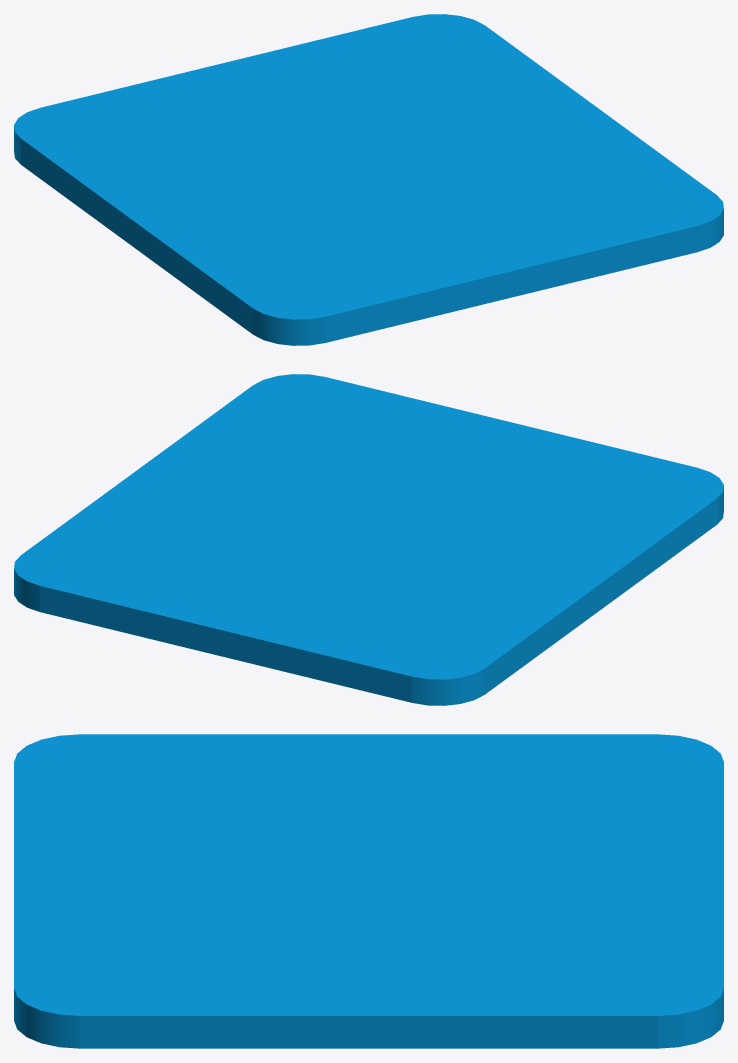
File: Bridge_02.fbx
3 renders of one model, top to bottom at view 1: azimuth 30°, elevation 25°; view 2: azimuth 150°, elevation 25°; view 3: azimuth 270°, elevation 25°, orthographic. The views are drawn at different scales.
Visible parts, largest first — view 1: Bridge_02; view 2: Bridge_02; view 3: Bridge_02.
Part boxes in pixels (x1=…): Bridge_02: x1=14, y1=14, x2=723, y2=345; Bridge_02: x1=14, y1=374, x2=723, y2=705; Bridge_02: x1=14, y1=734, x2=723, y2=1048.
Bounding box in the file's own units: 19.57 × 1.06 × 20.85.
